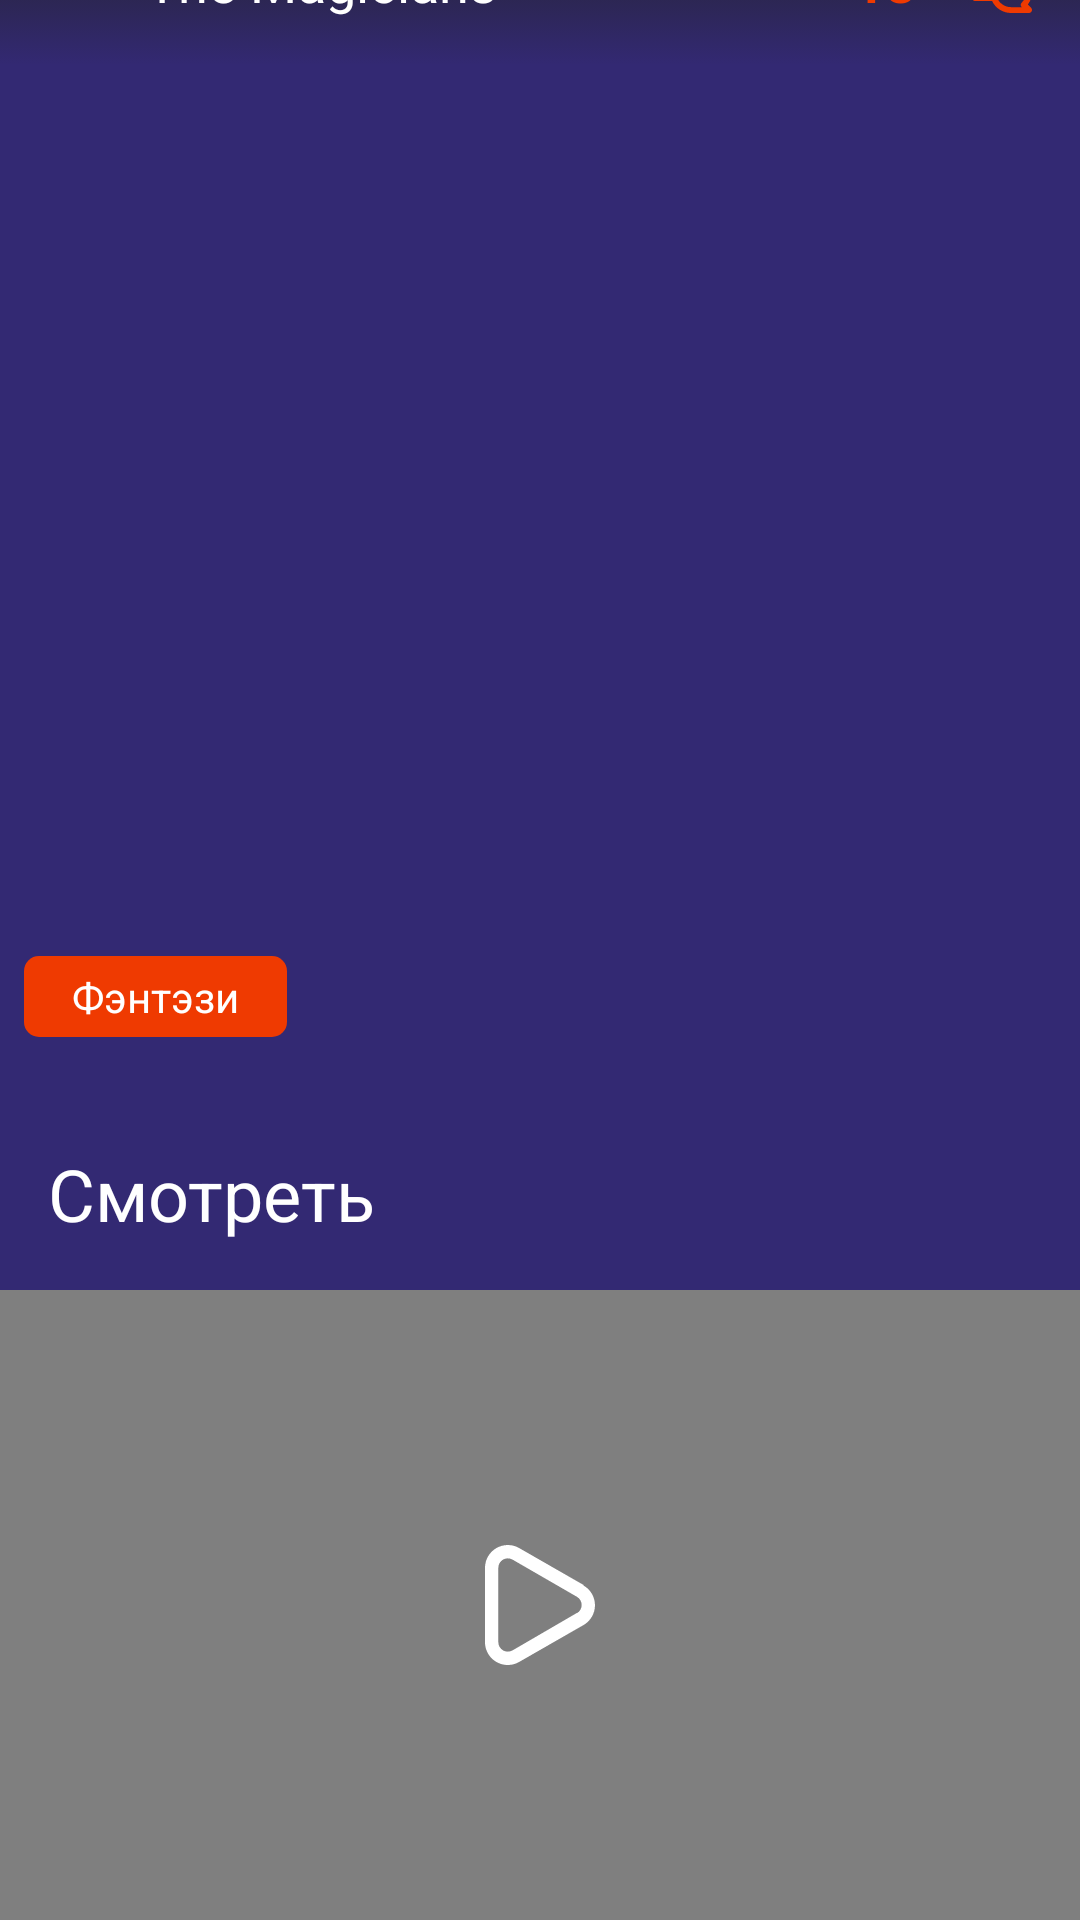

Screen size 1080px×1920px. Icon name, then its box in pixels as (x1, y1, x2, y2):
vectorplay: (485, 1545, 595, 1665)
